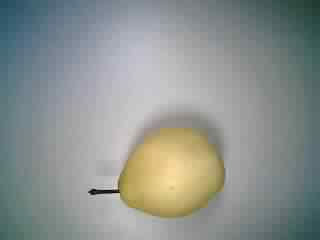pear: (80, 112, 239, 223)
